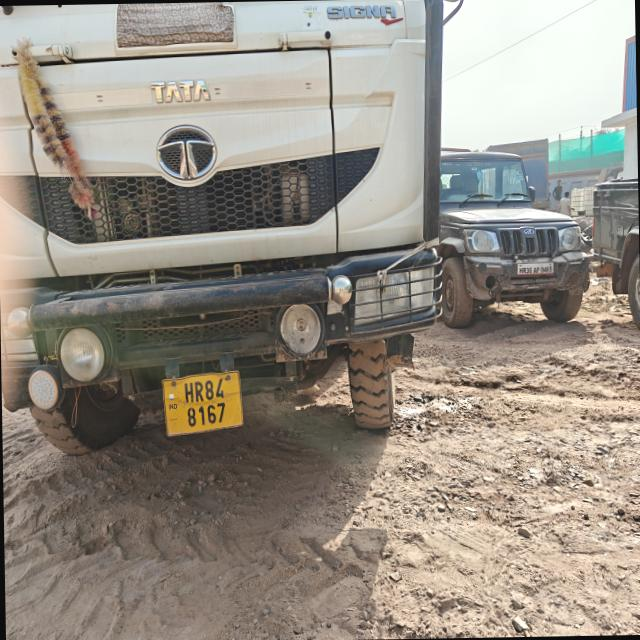license_plate: (163, 372, 242, 436), (518, 262, 554, 275)
